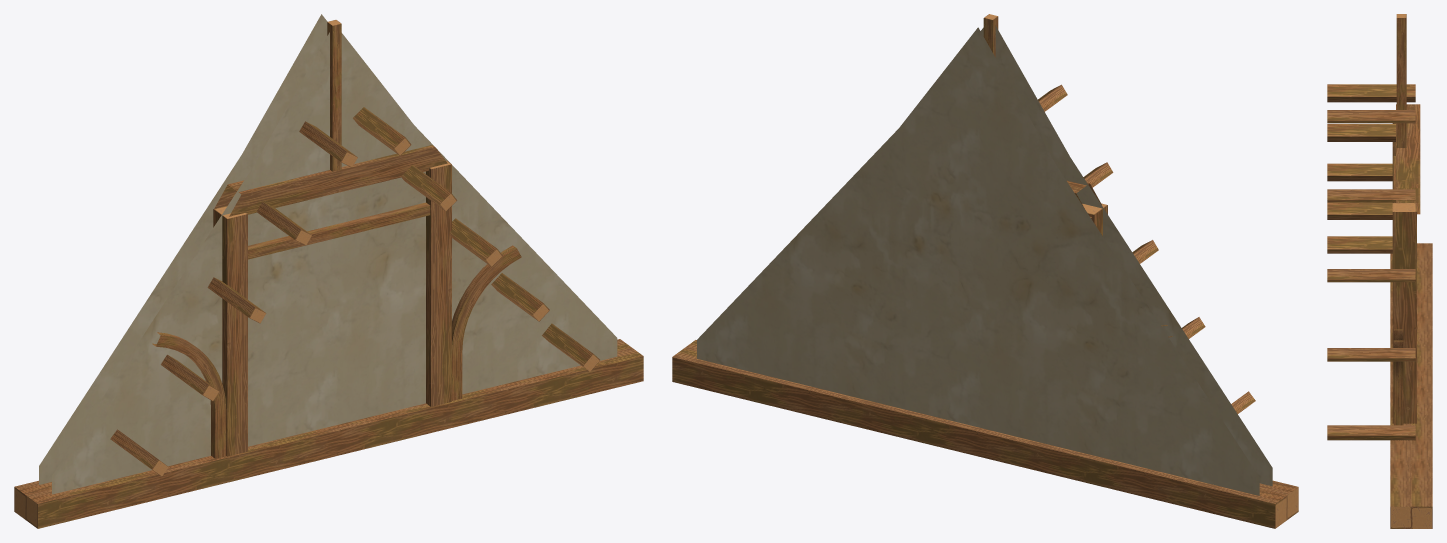
Rendered from Roof_Front_Brick6.glb.
3 views of the same model, side by side, from view 1: azimuth 30°, elevation 25°; view 2: azimuth 150°, elevation 25°; view 3: azimuth 270°, elevation 25° (orthographic). The views are drawn at different scales.
Visible parts, largest first — view 1: Roof_Front_Brick6; view 2: Roof_Front_Brick6; view 3: Roof_Front_Brick6.
Boxes of the visible parts, box(x1,y1,x2,y2) form: Roof_Front_Brick6: box(14, 14, 643, 528); Roof_Front_Brick6: box(672, 14, 1298, 528); Roof_Front_Brick6: box(1327, 14, 1432, 528).
Bounding box in the file's own units: 6.69 × 4.52 × 1.13.
2 materials, 2 textured.
